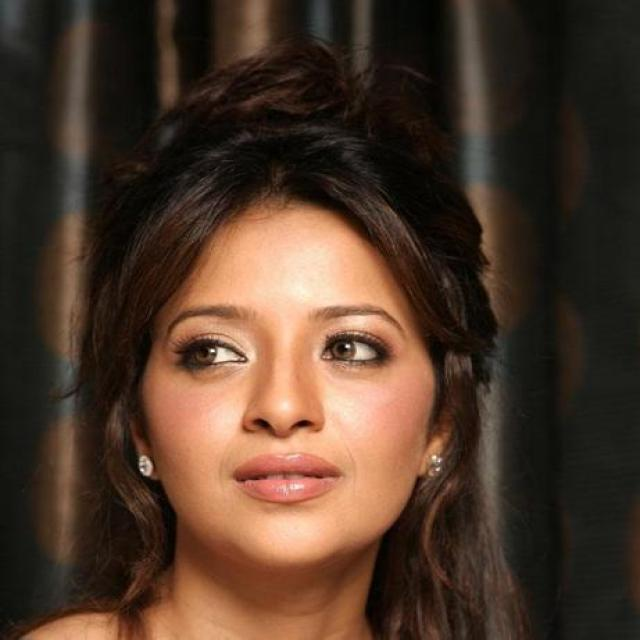0_rostro_limpio: (126, 166, 461, 578)
